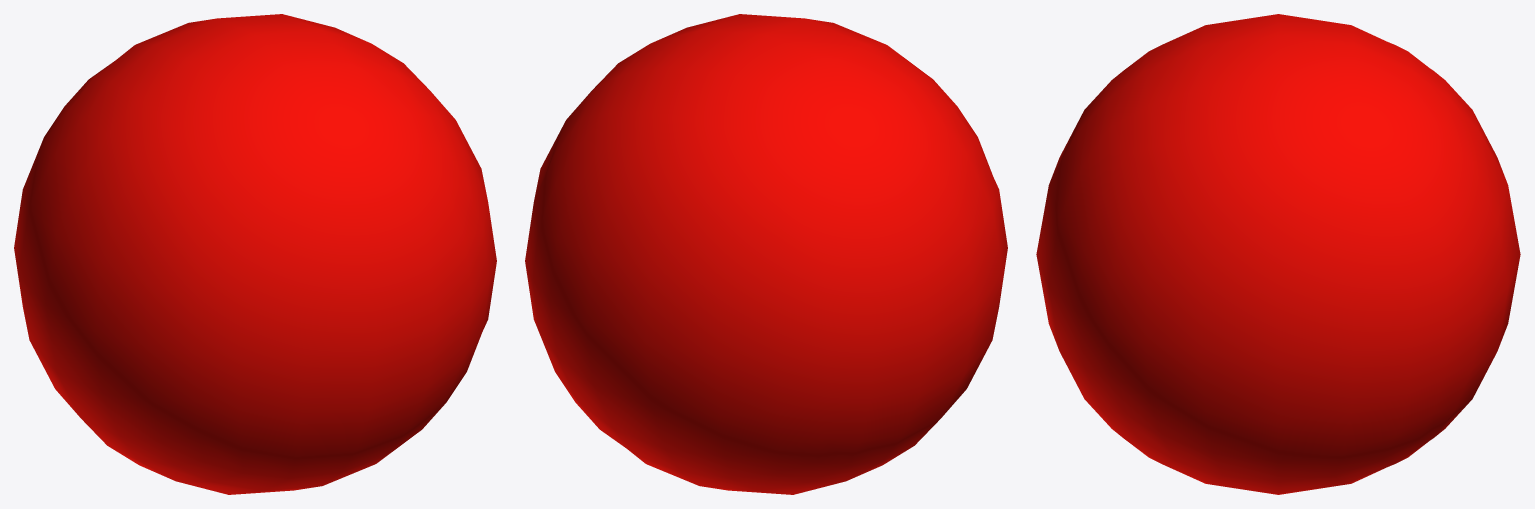
File: nose.fbx
3 renders of one model, left to right at view 1: azimuth 30°, elevation 25°; view 2: azimuth 150°, elevation 25°; view 3: azimuth 270°, elevation 25°, orthographic.
Parts seen in each view (by area): view 1: Cube; view 2: Cube; view 3: Cube.
Part boxes in pixels (x1,y1,x2,y2): Cube: (14,14,496,494); Cube: (525,14,1007,494); Cube: (1036,14,1520,494).
Bounding box in the file's own units: 6.14 × 6.14 × 6.14.
